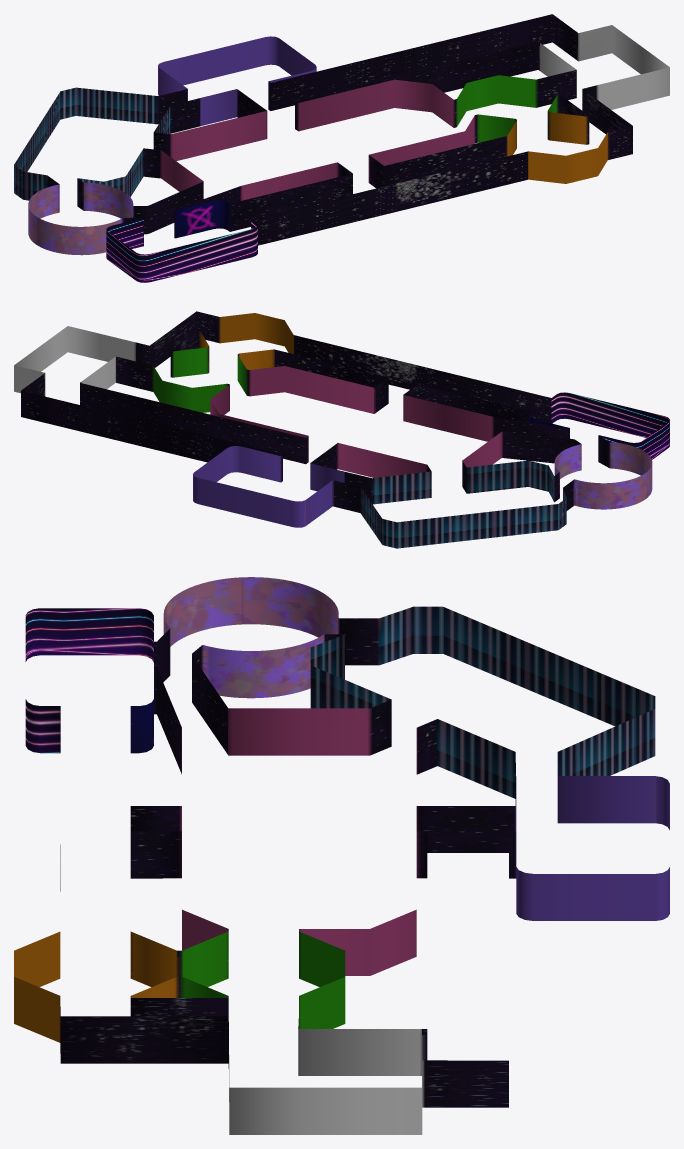
Rendered from Parede.fbx.
The picture shows the model from 3 angles, top to bottom: view 1: azimuth 30°, elevation 25°; view 2: azimuth 150°, elevation 25°; view 3: azimuth 270°, elevation 25°; orthographic projection. The views are drawn at different scales.
Parts seen in each view (by area): view 1: Paredes; view 2: Paredes; view 3: Paredes.
Boxes of the visible parts, <box> form: Paredes: <box>14,14,669,282</box>; Paredes: <box>14,311,669,548</box>; Paredes: <box>14,577,669,1134</box>.
Bounding box in the file's own units: 9267 × 400 × 5031.
